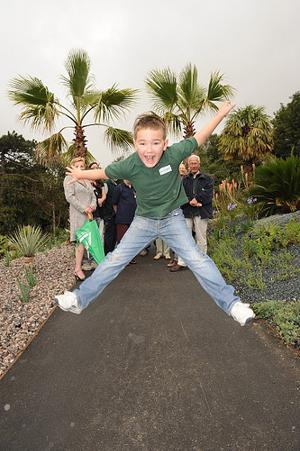person: (56, 98, 257, 326)
